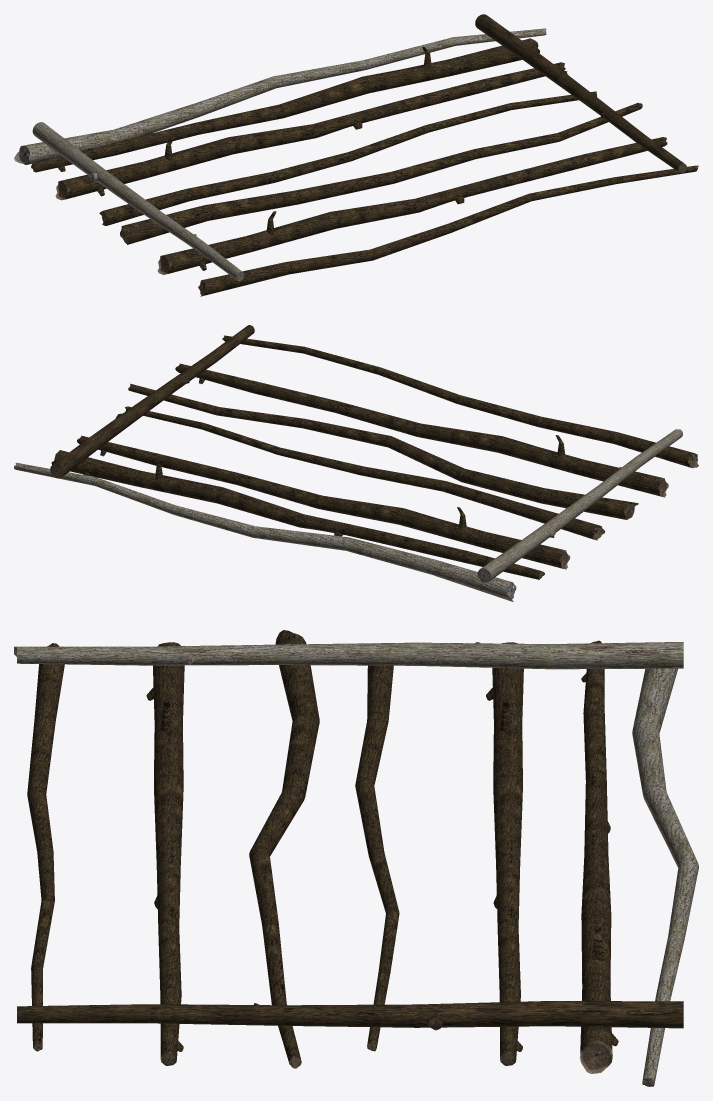
The model's file is branch_roof.fbx.
3 views of the same model, one above another, from view 1: azimuth 30°, elevation 25°; view 2: azimuth 150°, elevation 25°; view 3: azimuth 270°, elevation 25° (orthographic). The views are drawn at different scales.
Parts seen in each view (by area): view 1: branch_roof; view 2: branch_roof; view 3: branch_roof.
Boxes of the visible parts, left/top/right/bottom form: branch_roof: left=14, top=14, right=698, bottom=296; branch_roof: left=14, top=325, right=698, bottom=601; branch_roof: left=14, top=630, right=698, bottom=1086.
Bounding box in the file's own units: 367 × 25.52 × 245.
Materials: 2 (2 with a texture image).
